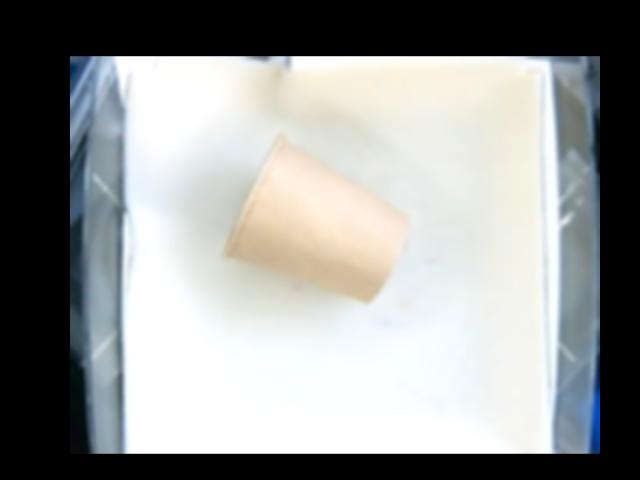Cup: (221, 134, 412, 300)
